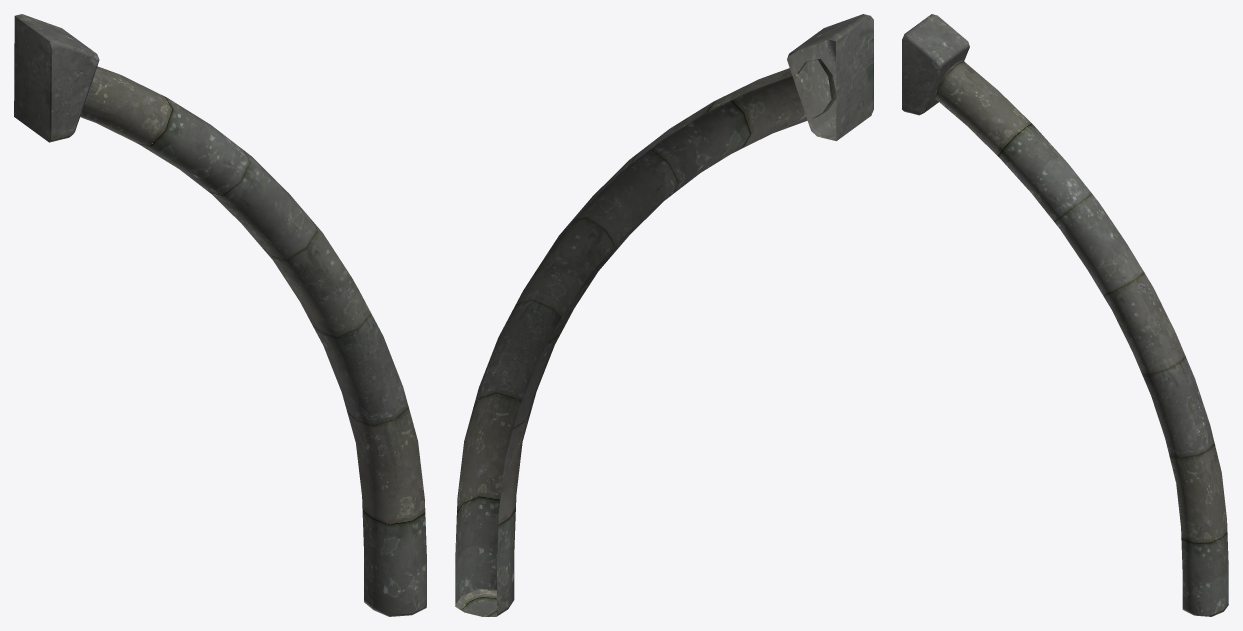
The picture shows the model from 3 angles, left to right: view 1: azimuth 30°, elevation 25°; view 2: azimuth 150°, elevation 25°; view 3: azimuth 330°, elevation 25°; orthographic projection. The views are drawn at different scales.
Visible parts, largest first — view 1: SM_DeathTemple_Detail_1x14_02_v1_LOD0; view 2: SM_DeathTemple_Detail_1x14_02_v1_LOD0; view 3: SM_DeathTemple_Detail_1x14_02_v1_LOD0.
Boxes of the visible parts, x1,y1,x2,y2 form: SM_DeathTemple_Detail_1x14_02_v1_LOD0: [14, 14, 426, 616]; SM_DeathTemple_Detail_1x14_02_v1_LOD0: [455, 14, 873, 616]; SM_DeathTemple_Detail_1x14_02_v1_LOD0: [902, 14, 1228, 616].
Bounding box in the file's own units: 3.16 × 5.16 × 0.5253.
1 material, 1 textured.
